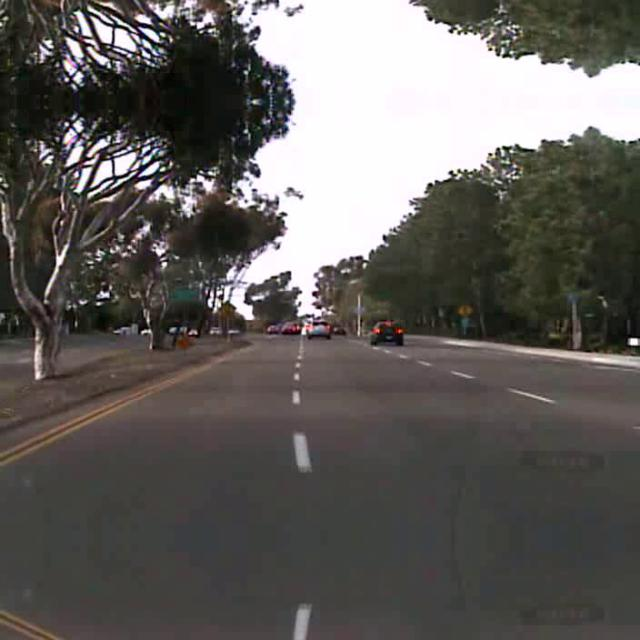signalAhead: (458, 302, 472, 318)
